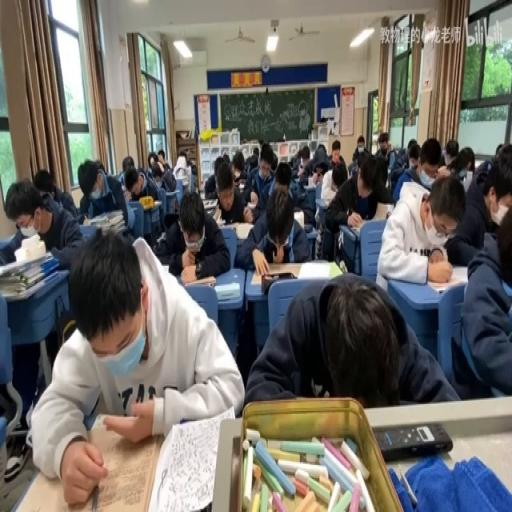calculator: (298, 260, 335, 280), (214, 282, 240, 300), (181, 273, 216, 286), (233, 222, 253, 240), (313, 196, 328, 215), (201, 196, 217, 212), (293, 210, 303, 228), (305, 175, 317, 188), (213, 206, 222, 222), (338, 257, 347, 273), (177, 175, 189, 186), (155, 232, 165, 244), (158, 263, 170, 272), (236, 180, 245, 190), (82, 215, 90, 226), (150, 199, 162, 206), (198, 189, 206, 199), (246, 202, 257, 209)
paper: (34, 227, 240, 505), (246, 273, 456, 407), (448, 199, 512, 398), (376, 172, 466, 293), (1, 176, 83, 273), (323, 151, 393, 263), (154, 186, 229, 279), (234, 180, 310, 268), (78, 158, 133, 240), (206, 155, 254, 222), (391, 141, 426, 200), (150, 154, 177, 192), (291, 144, 312, 182), (326, 138, 346, 175), (474, 148, 496, 178), (33, 168, 54, 196), (350, 134, 368, 166), (290, 181, 310, 209), (374, 129, 393, 158), (273, 160, 291, 190), (442, 138, 459, 168), (125, 176, 141, 199), (462, 168, 472, 190), (122, 154, 134, 172), (346, 160, 358, 176), (213, 155, 223, 174), (406, 138, 417, 155), (117, 168, 126, 185), (94, 156, 104, 170), (315, 144, 326, 156), (156, 150, 165, 164), (494, 144, 504, 156), (271, 154, 278, 170), (189, 162, 196, 176), (251, 144, 259, 156), (150, 156, 156, 170), (222, 150, 230, 160)
person: (373, 420, 453, 458), (261, 273, 296, 294)
